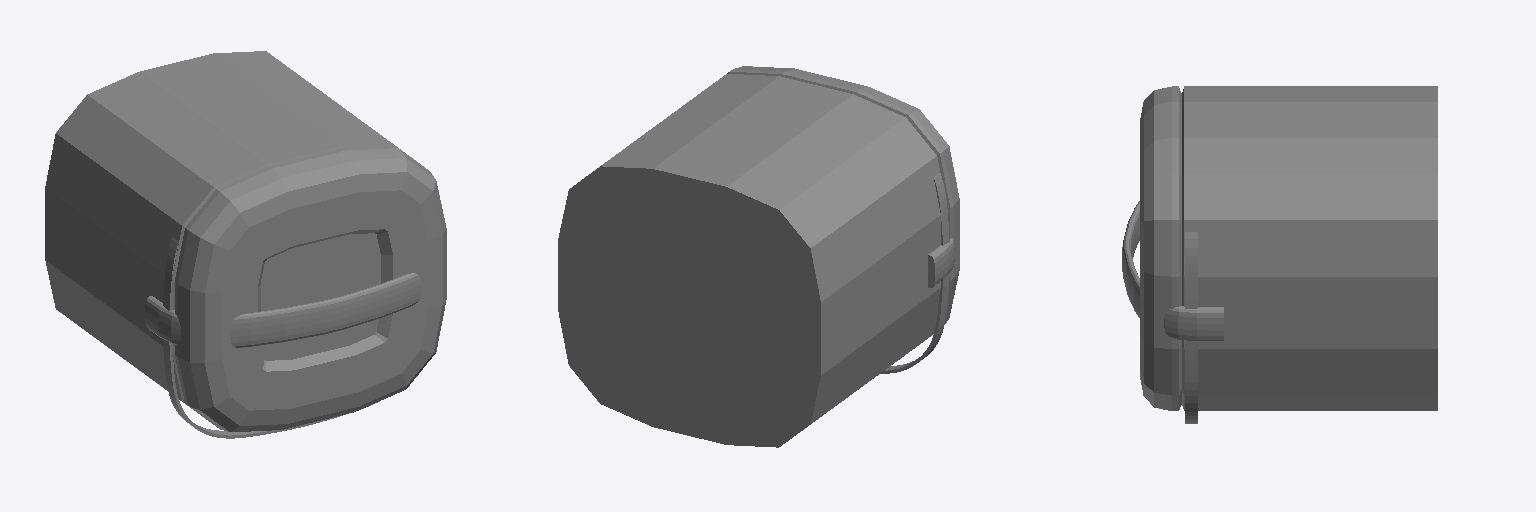
File: bloc3_fromMax.obj
The picture shows the model from 3 angles: view 1: azimuth 30°, elevation 25°; view 2: azimuth 150°, elevation 25°; view 3: azimuth 270°, elevation 25°; orthographic projection.
Visible parts, largest first — view 1: Box009; view 2: Box009; view 3: Box009.
Boxes of the visible parts, box(x1,y1,x2,y2) form: Box009: box(45, 51, 446, 438); Box009: box(558, 66, 959, 447); Box009: box(1122, 86, 1437, 423).
Bounding box in the file's own units: 0.7274 × 0.68 × 0.7147.